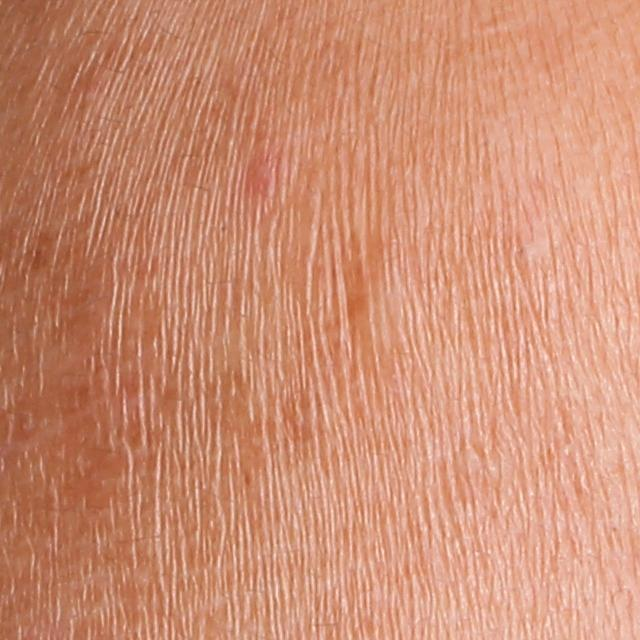comedo: (511, 229, 541, 265)
papule: (245, 158, 288, 198)
